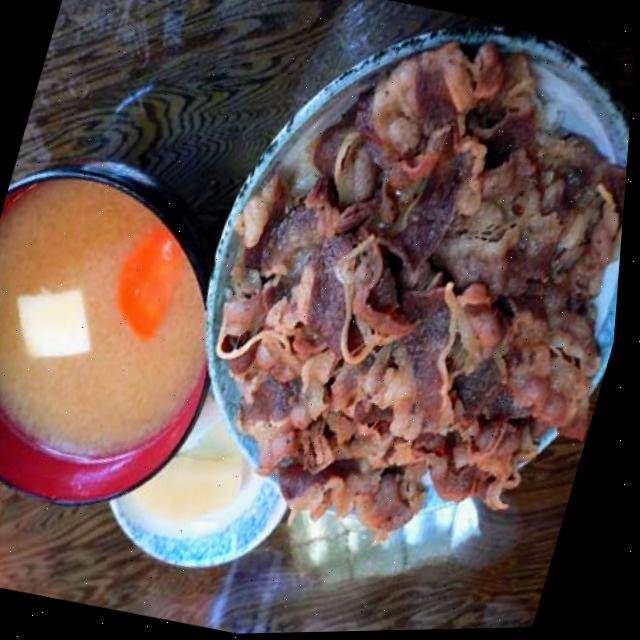汤锅炖物: (0, 145, 277, 547)
